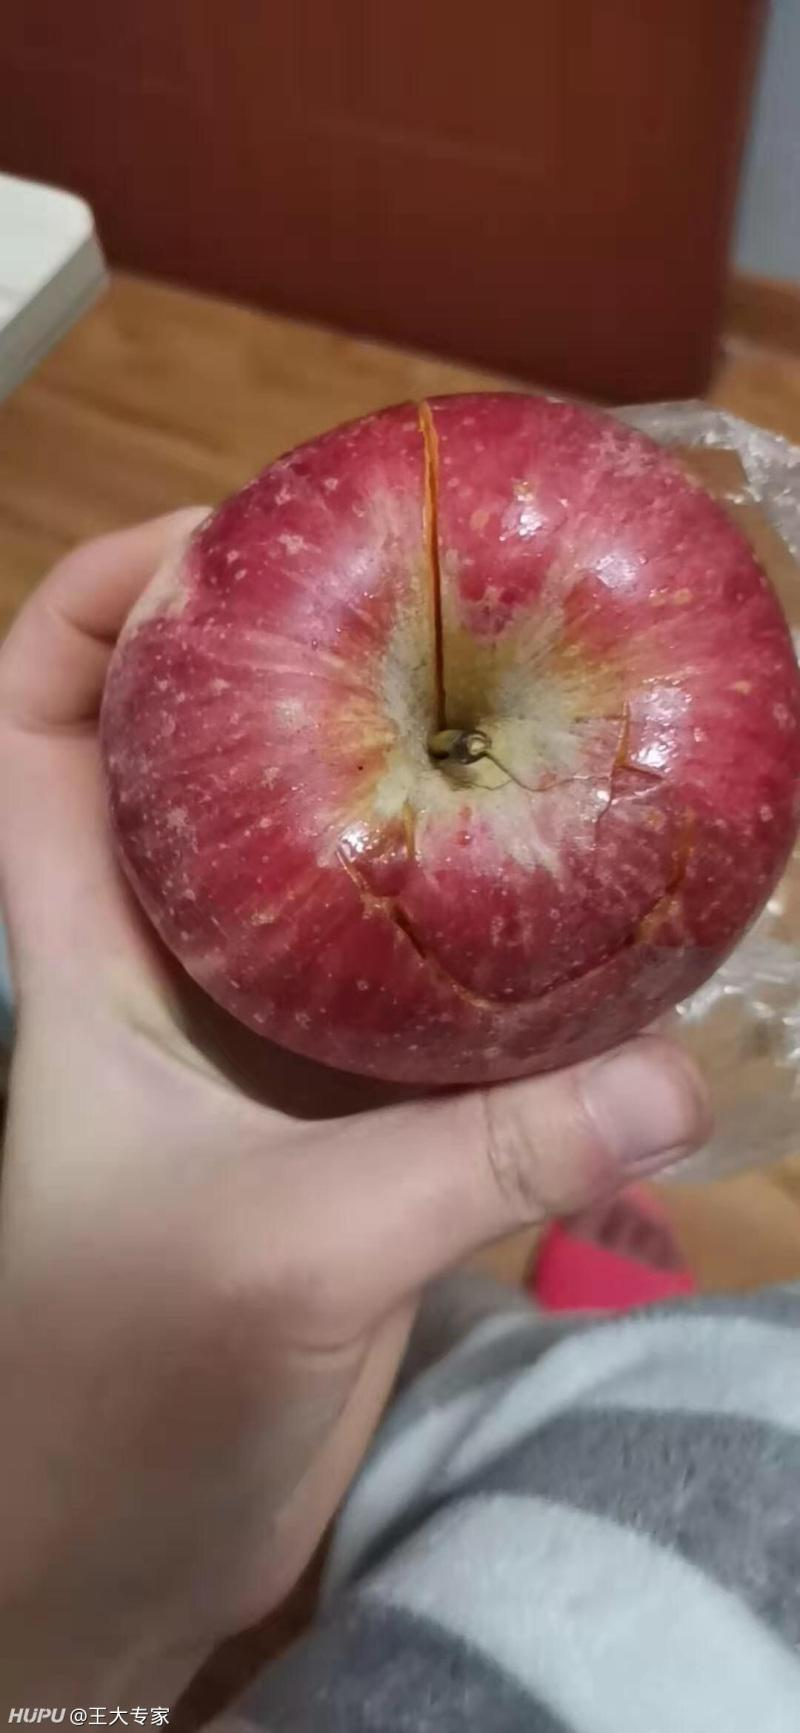apple: (86, 372, 794, 1065)
